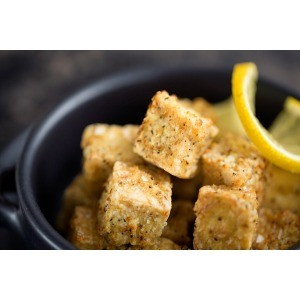tofu_brain food: (66, 88, 295, 244)
